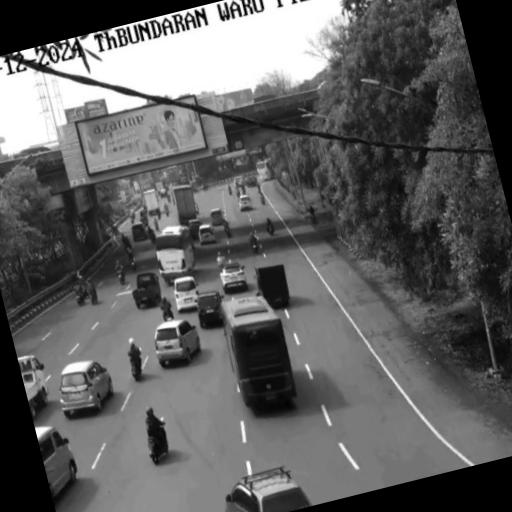bus: (217, 288, 296, 412), (150, 224, 196, 278)
car: (216, 462, 314, 512), (52, 353, 120, 420), (35, 422, 82, 500), (152, 313, 202, 366), (216, 259, 252, 297), (193, 289, 226, 328), (171, 276, 203, 312)
motorcycle: (140, 418, 177, 466), (124, 346, 150, 384)
truck: (252, 258, 294, 310), (18, 351, 52, 409), (128, 270, 164, 310)
